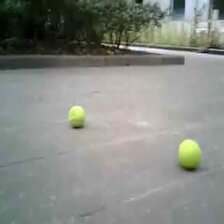tennis: (178, 139, 200, 166), (68, 105, 85, 125)
